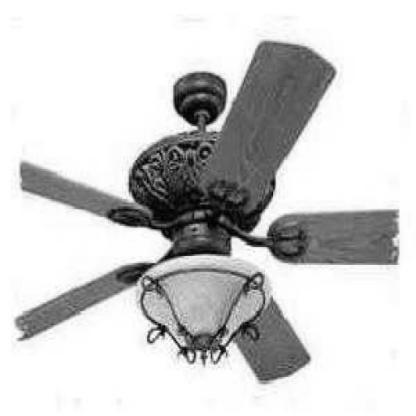ceiling-fan: (13, 38, 400, 382)
